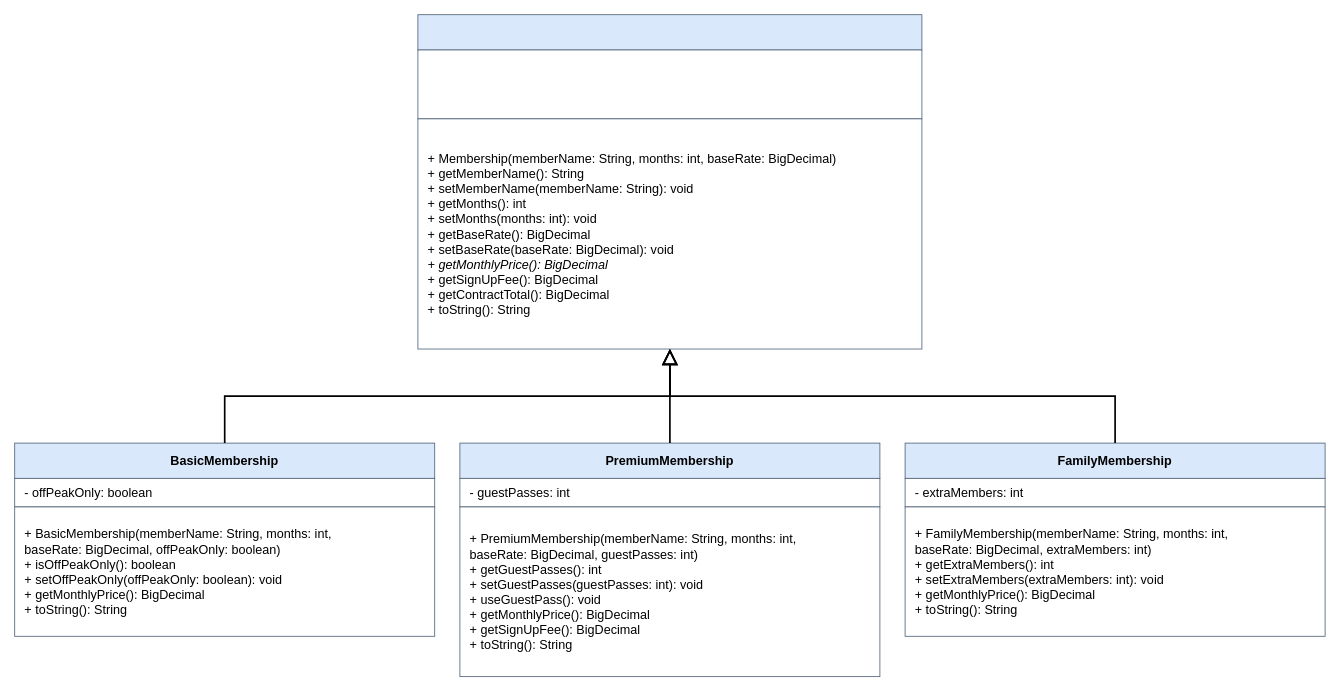
Some shapes in this 1340 by 691 pixel diagram are drawn without their labels. The centre of each missing label's shape, as x and y in pixels:
- memberName: String - months: int - baseRate: BigDecimal: pixel 669 84
«abstract» Membership: pixel 669 32
